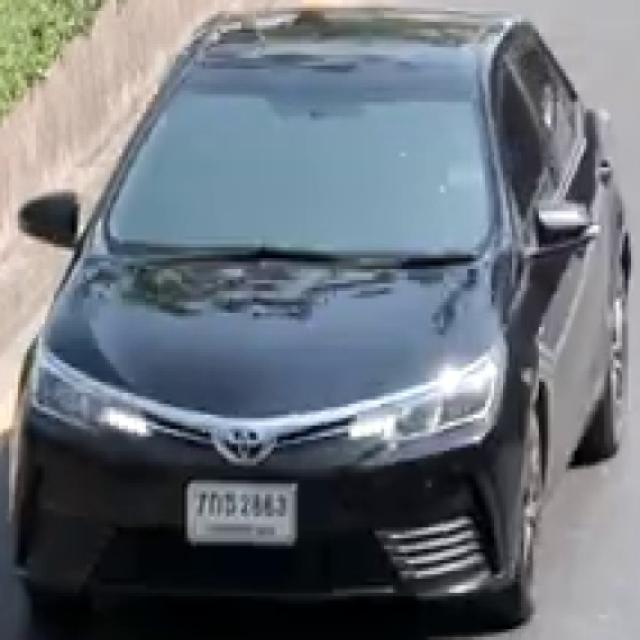plate: (188, 482, 293, 543)
